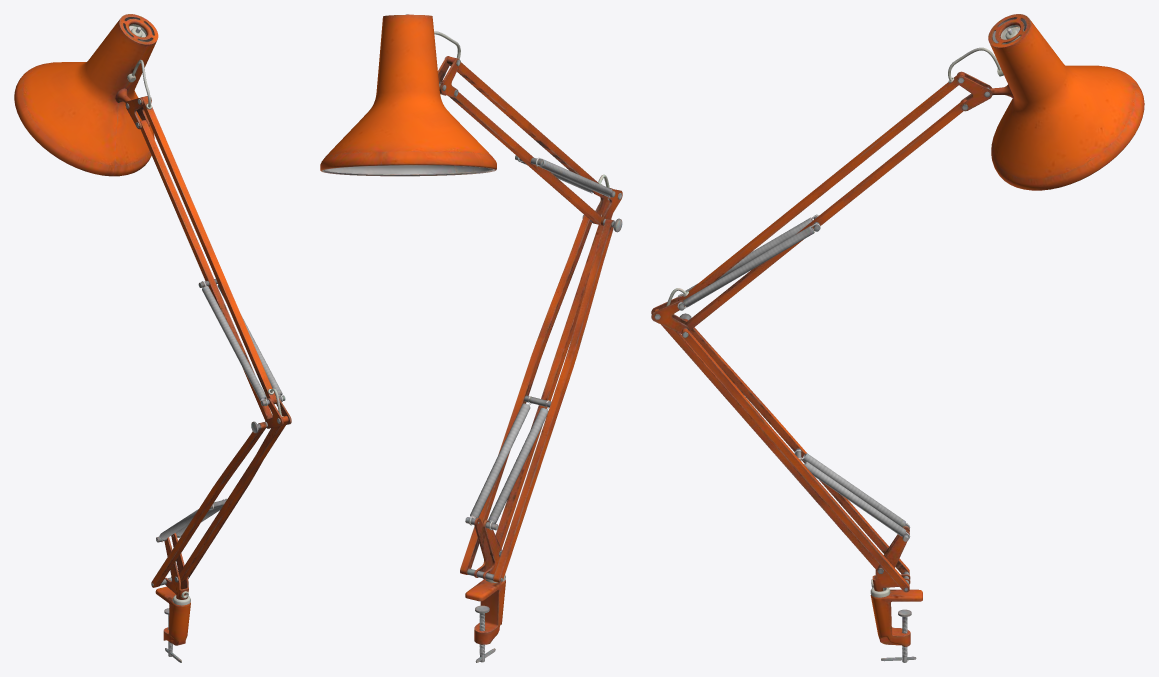
Rendered from desk_lamp_arm_01.glb.
3 renders of one model, left to right at view 1: azimuth 30°, elevation 25°; view 2: azimuth 150°, elevation 25°; view 3: azimuth 270°, elevation 25°, orthographic. The views are drawn at different scales.
Parts seen in each view (by area): view 1: desk_lamp_arm_01; view 2: desk_lamp_arm_01; view 3: desk_lamp_arm_01.
Part boxes in pixels (x1,y1,x2,y2): desk_lamp_arm_01: (14, 14, 291, 662); desk_lamp_arm_01: (320, 14, 622, 662); desk_lamp_arm_01: (651, 14, 1144, 662).
Size of the model in its own units: 0.2017 by 0.8926 by 0.6139.
2 materials, 2 textured.
